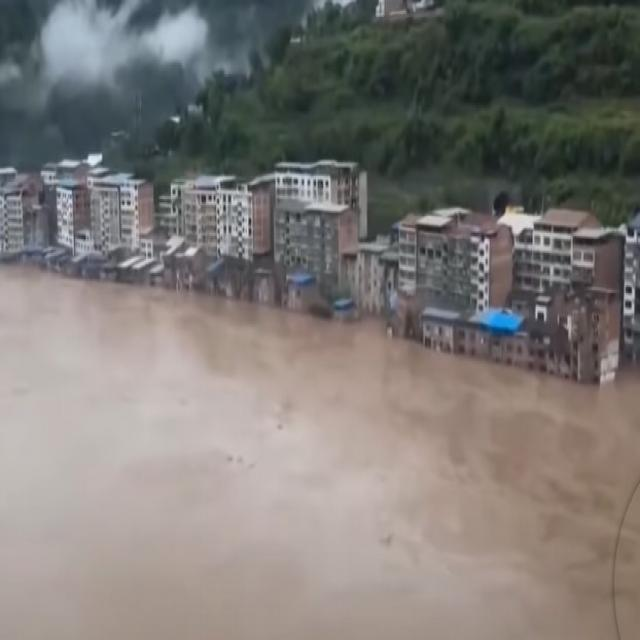flood: (0, 266, 640, 640)
house: (506, 215, 630, 390), (387, 208, 502, 349), (260, 163, 368, 304), (61, 172, 162, 266), (170, 176, 258, 259), (0, 177, 37, 262)
